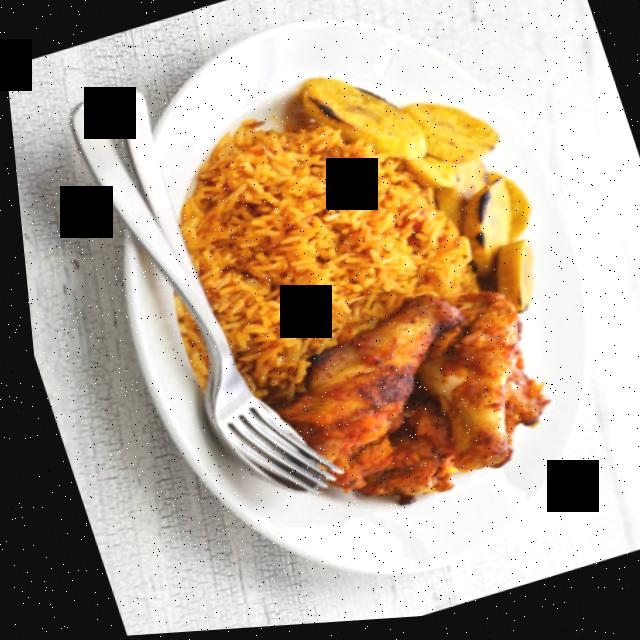Frango: (247, 269, 569, 537)
